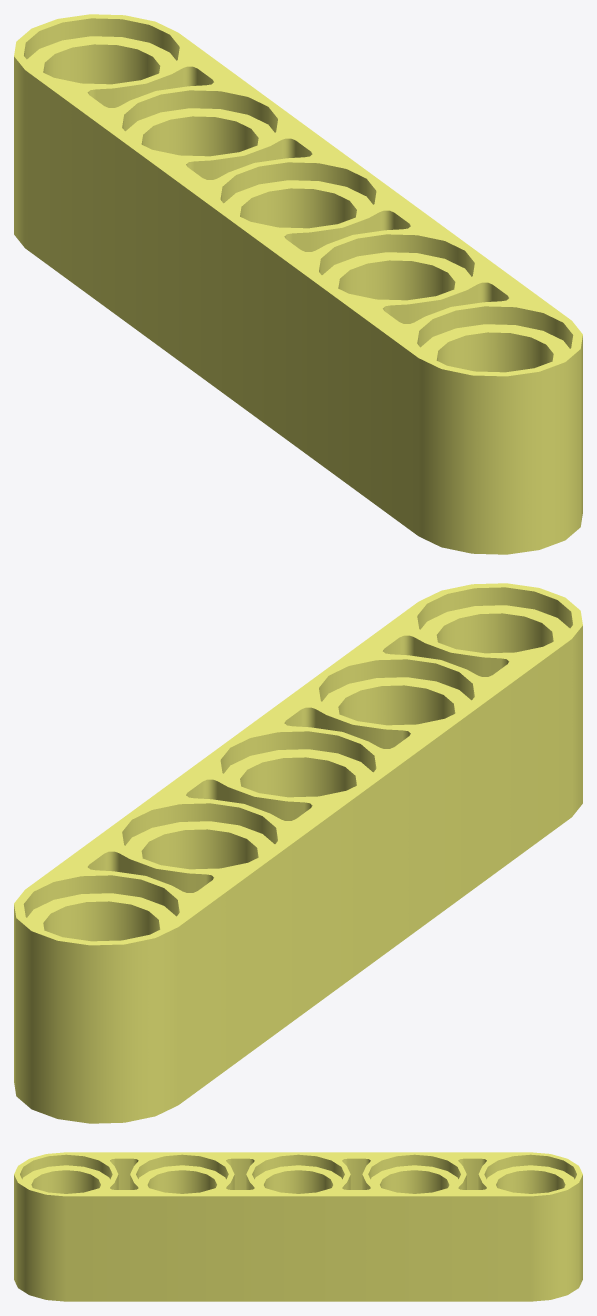
The picture shows the model from 3 angles, top to bottom: view 1: azimuth 30°, elevation 25°; view 2: azimuth 150°, elevation 25°; view 3: azimuth 270°, elevation 25°; orthographic projection. The views are drawn at different scales.
Visible parts, largest first — view 1: 32316.dat; view 2: 32316.dat; view 3: 32316.dat.
Part boxes in pixels (x1,y1,x2,y2): 32316.dat: [14, 14, 582, 554]; 32316.dat: [14, 583, 582, 1123]; 32316.dat: [14, 1152, 582, 1301].
Bounding box in the file's own units: 0.0072 × 0.008 × 0.0392.
